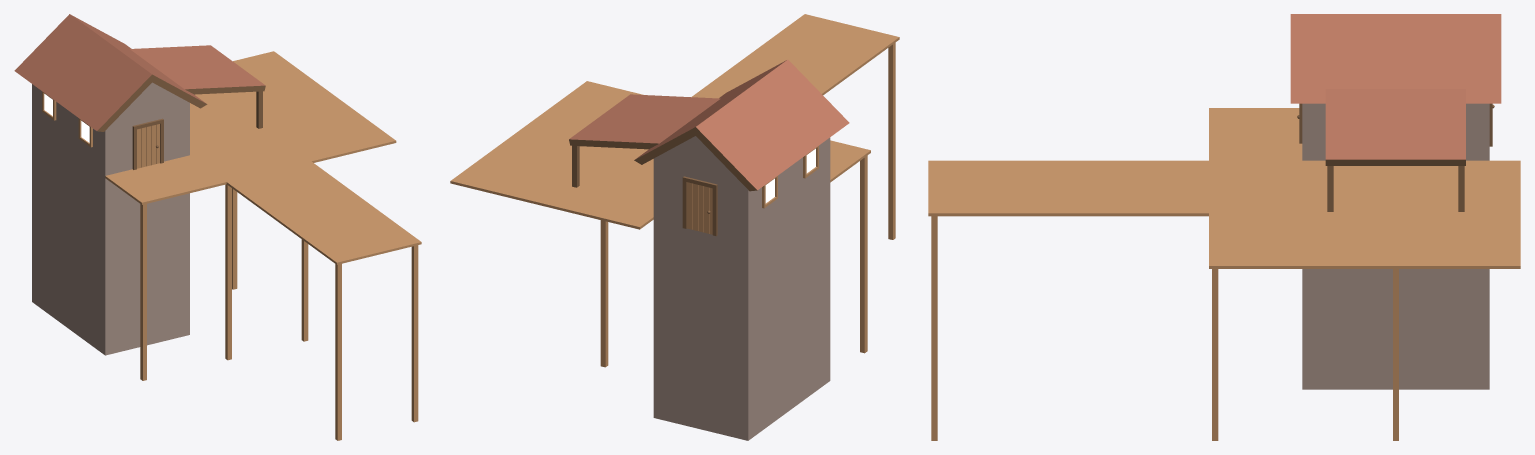
Rendered from SM_TradingPost_01.fbx.
The picture shows the model from 3 angles, left to right: view 1: azimuth 30°, elevation 25°; view 2: azimuth 150°, elevation 25°; view 3: azimuth 270°, elevation 25°; orthographic projection. The views are drawn at different scales.
Visible parts, largest first — view 1: SM_TradingPost_01, DoorFlat_01.006; view 2: SM_TradingPost_01, DoorFlat_01.007; view 3: SM_TradingPost_01.
Boxes of the visible parts, x1,y1,x2,y2 form: SM_TradingPost_01: (14,14,421,440); DoorFlat_01.006: (132,118,163,169); SM_TradingPost_01: (450,14,899,440); DoorFlat_01.007: (682,176,717,236); SM_TradingPost_01: (928,14,1520,440).
Size of the model in its own units: 1261 by 1236 by 1900.
